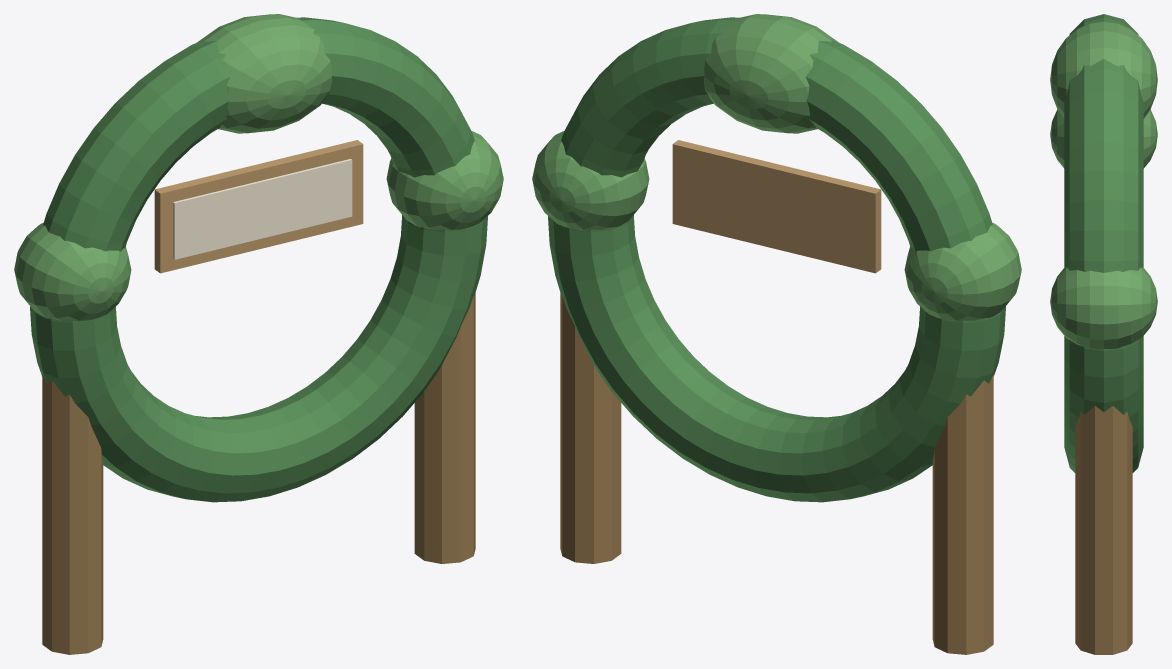
Rendered from gate.glb.
3 views of the same model, side by side, from view 1: azimuth 30°, elevation 25°; view 2: azimuth 150°, elevation 25°; view 3: azimuth 270°, elevation 25° (orthographic). The views are drawn at different scales.
Parts seen in each view (by area): view 1: Arch, GatePost, GatePost.001, ArchLeaves, SignBlank, PostLeaves, SignBoard, PostLeaves.001; view 2: Arch, SignBoard, GatePost, GatePost.001, ArchLeaves, PostLeaves, PostLeaves.001; view 3: Arch, GatePost.001, PostLeaves.001, ArchLeaves, PostLeaves.
Boxes of the visible parts, x1,y1,x2,y2 form: Arch: (30,17,487,502); GatePost: (42,374,103,654); GatePost.001: (414,293,475,563); ArchLeaves: (198,14,332,133); SignBlank: (173,159,352,259); PostLeaves: (14,222,131,321); SignBoard: (154,140,363,273); PostLeaves.001: (386,131,503,230); Arch: (548,17,1005,502); SignBoard: (672,140,881,273); GatePost: (932,374,993,654); GatePost.001: (560,293,621,563); ArchLeaves: (703,14,837,133); PostLeaves: (904,222,1021,321); PostLeaves.001: (532,131,649,230); Arch: (1064,14,1143,472); GatePost.001: (1075,406,1132,654); PostLeaves.001: (1050,267,1157,348); ArchLeaves: (1050,21,1157,118); PostLeaves: (1050,109,1157,168).
Bounding box in the file's own units: 2.8 × 3.25 × 0.6.
